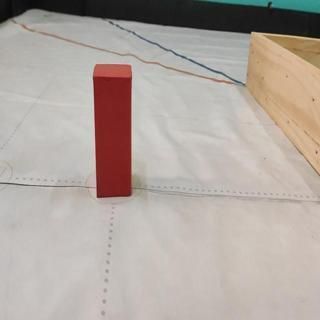redbox: (92, 63, 133, 197)
